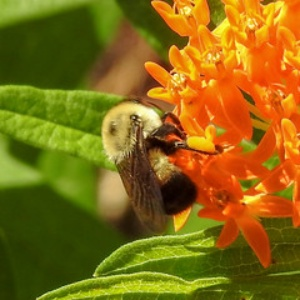bee: (100, 96, 194, 234)
